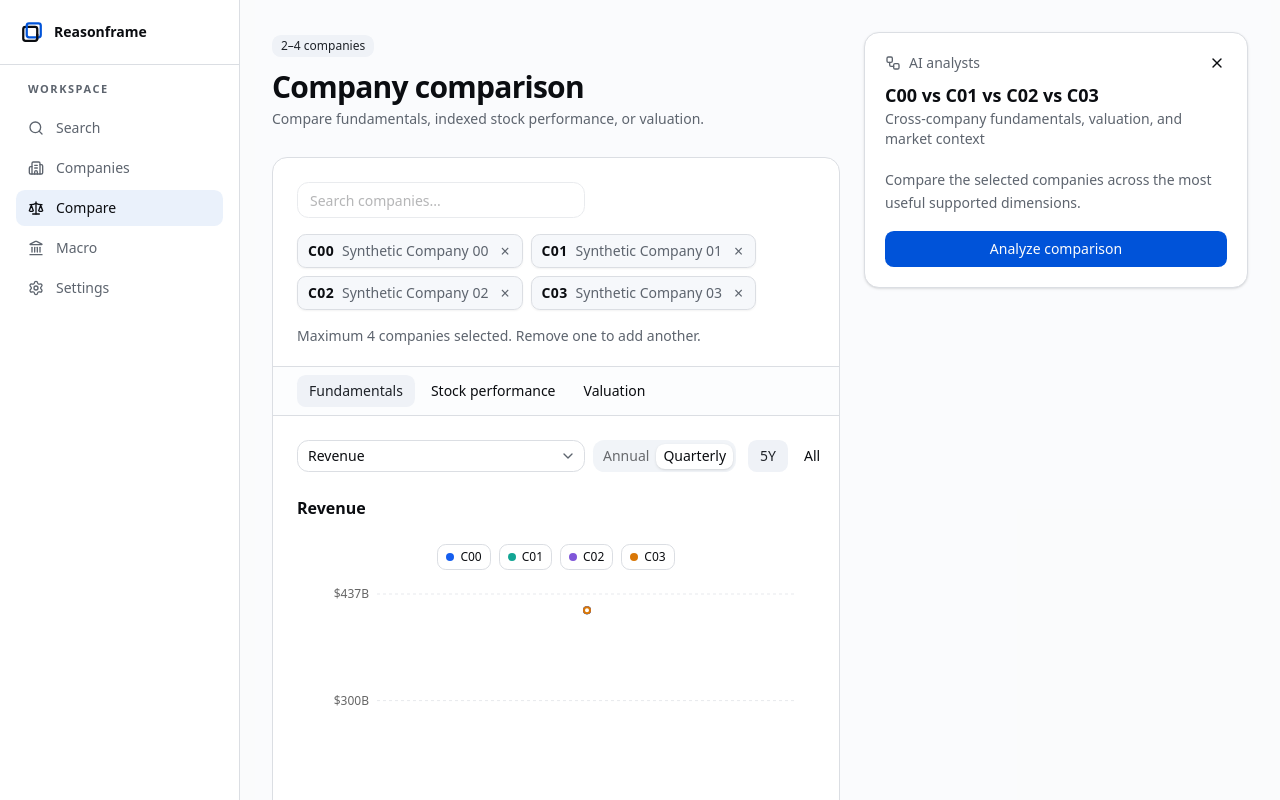
workspace flows › searches a 50-company comparison catalog and explains the four-company limit
Check: the message shows "Maximum 4 companies", box [297,326,701,345]
Step 1. Click the button named "Remove C03" → (739, 293), box [732,285,745,301]
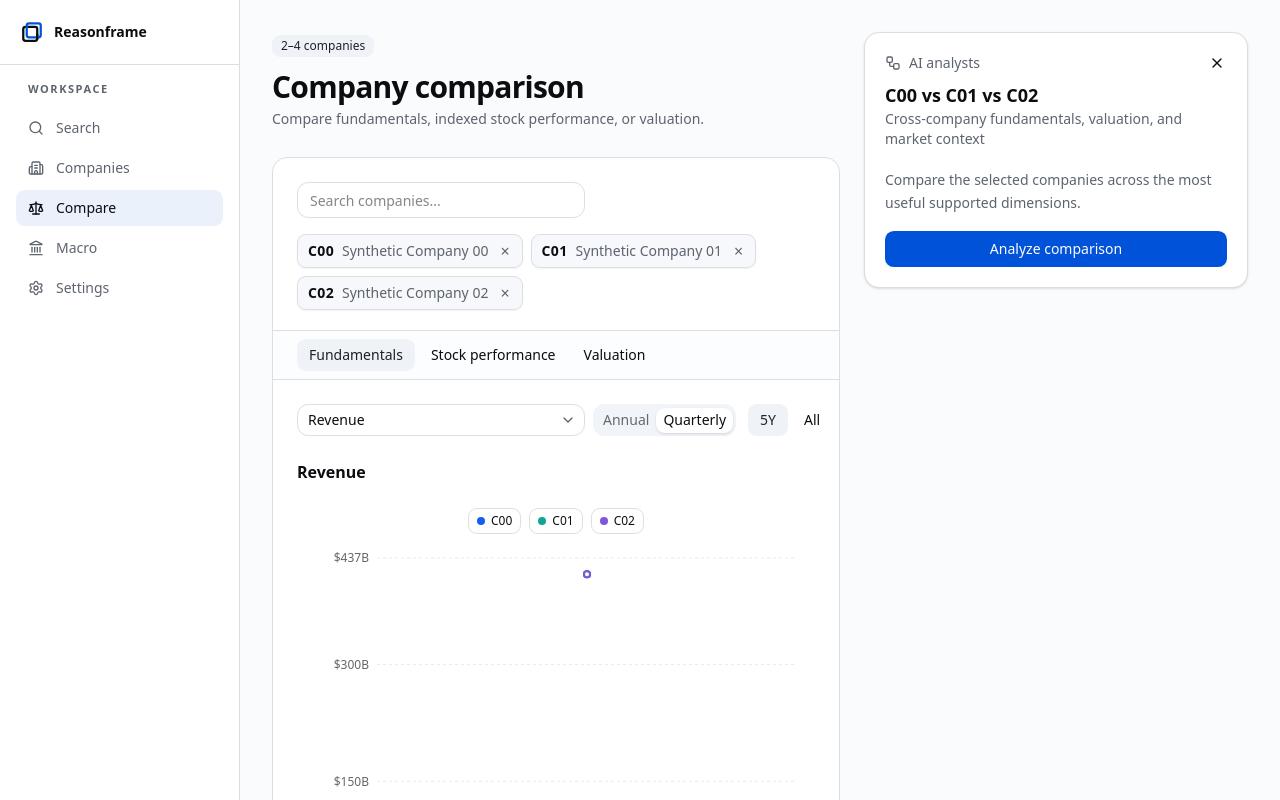
Step 2. Type "C04" into the dropdown named "Search comparison companies" → (441, 200), box [297,182,585,218]
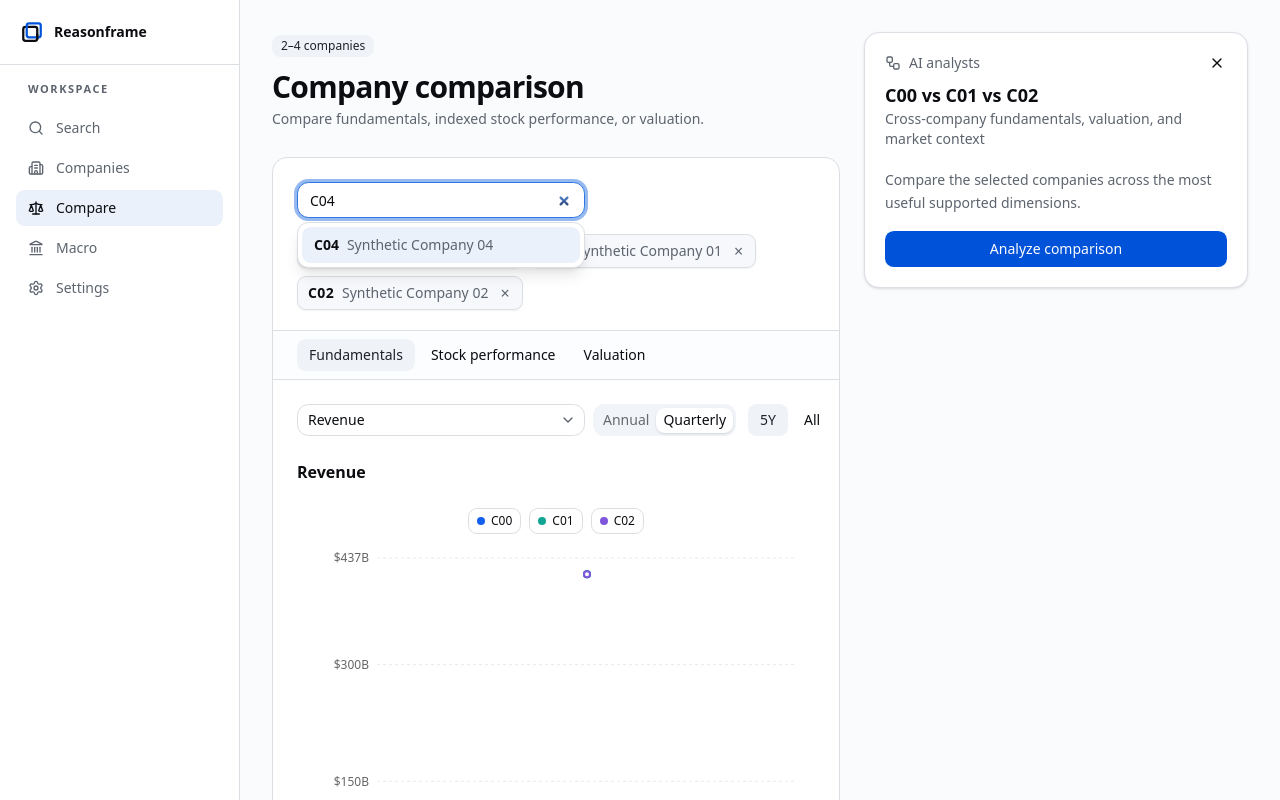
Step 3. Click the option "C04 Synthetic Company 04" → (441, 245), box [302,227,580,263]
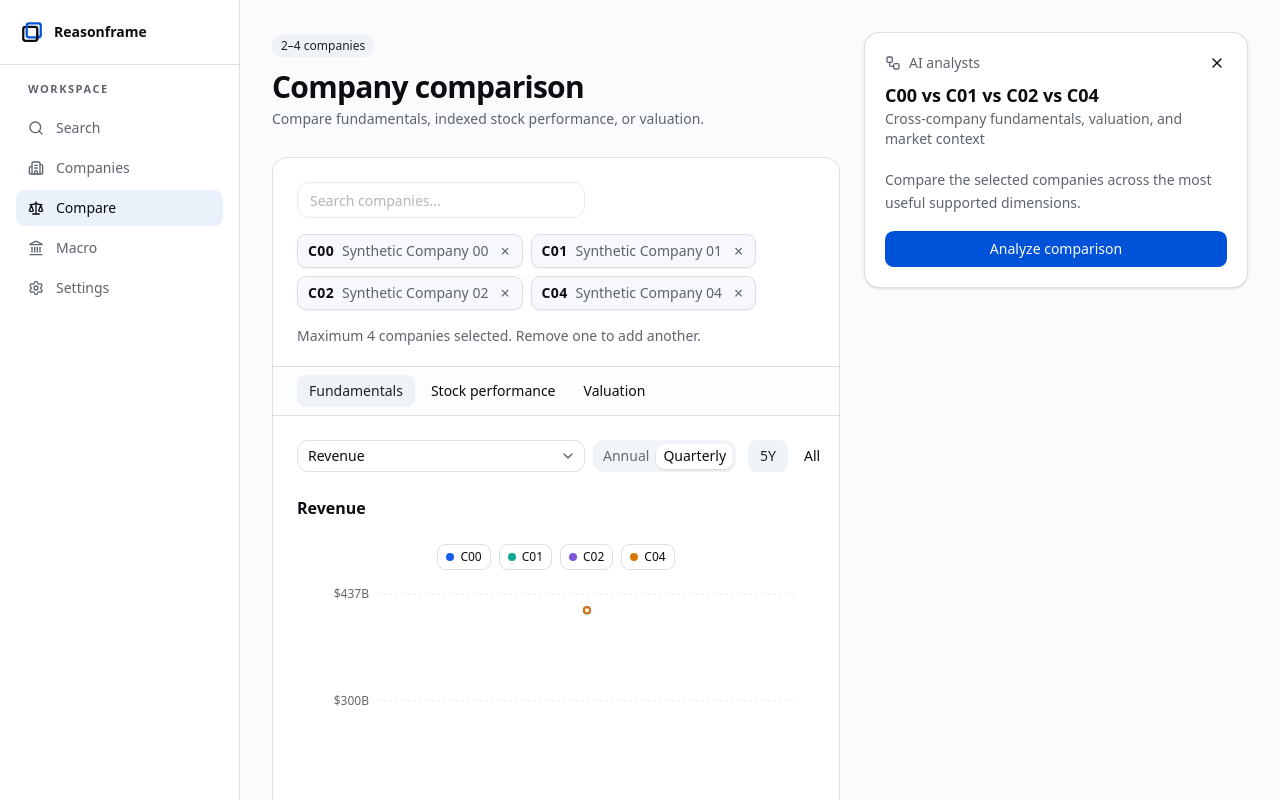
Check: the message shows "Maximum 4 companies", box [297,326,701,345]
